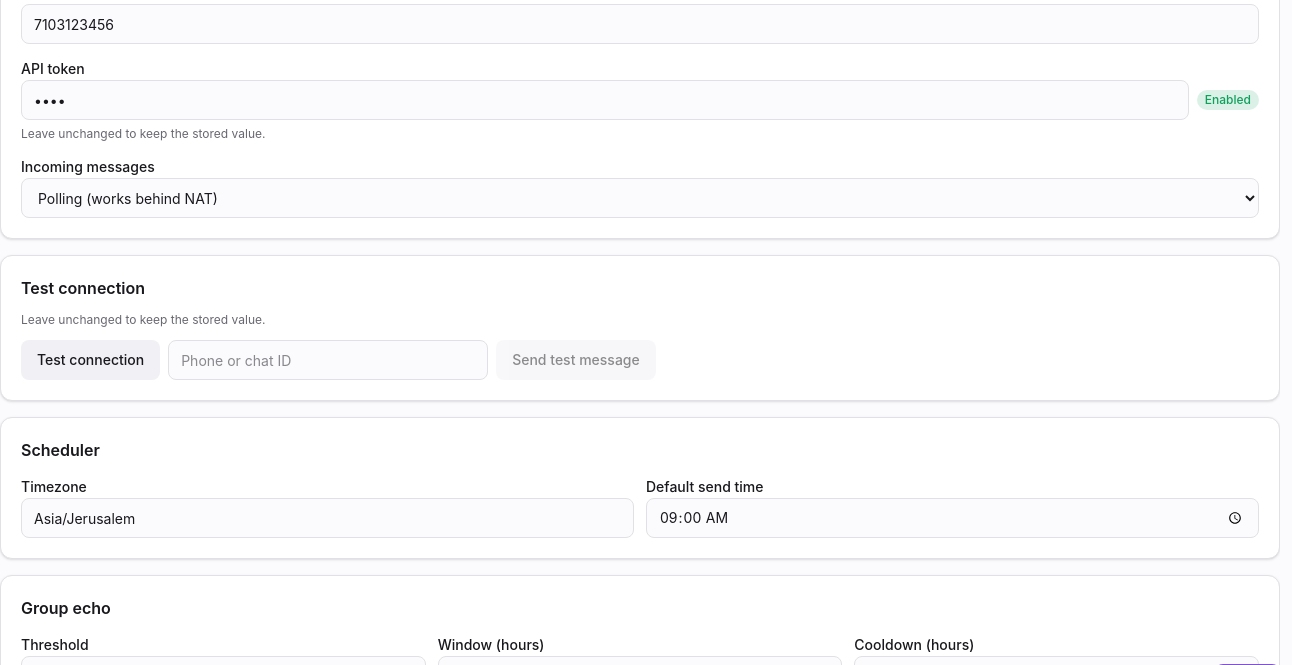
Scenario: provider tools › reports the live provider state
This screenshot has width=1292, height=665.
(page scrolled)
Click the button "Test connection": click(91, 360) [21, 340, 160, 380]
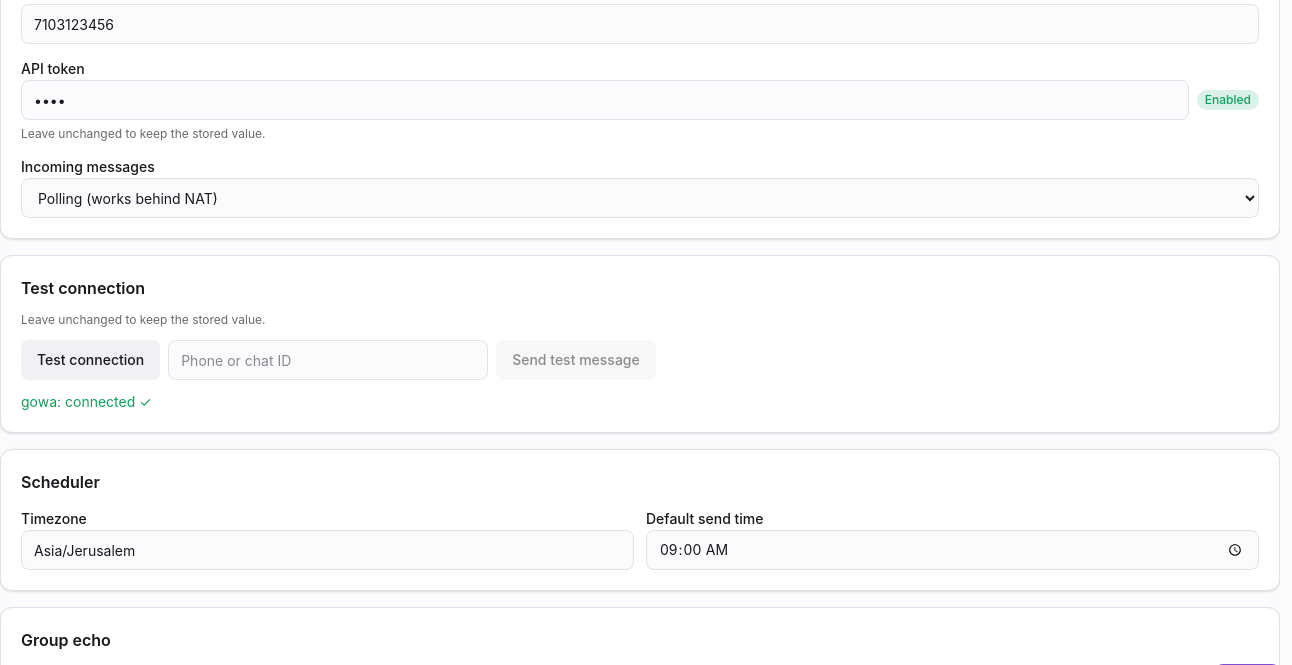
Expected: the text "gowa: connected ✓" is shown, [21, 393, 152, 410]
